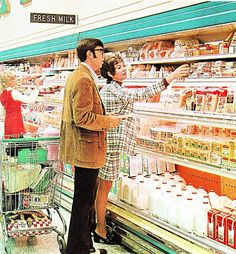Age_20_30: (101, 55, 128, 82), (1, 70, 17, 87)
Age_30_40: (78, 39, 106, 68)
E_White: (78, 39, 106, 68), (101, 55, 128, 82), (1, 70, 17, 87)
Emotion_Happy: (101, 55, 128, 82)
Emotion_Neutral: (78, 39, 106, 68), (1, 70, 17, 87)
G_ Female: (101, 55, 128, 82), (1, 70, 17, 87)
G_Male: (78, 39, 106, 68)
